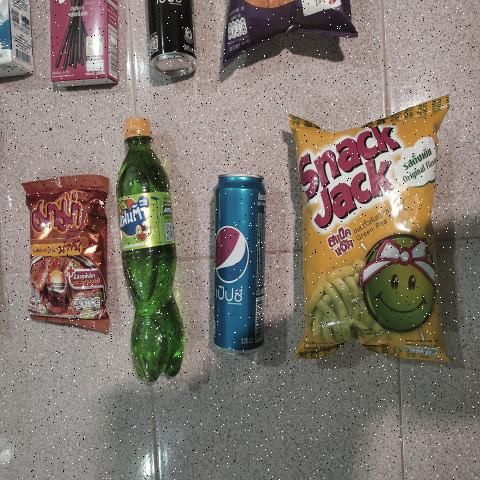fanta_green: (113, 118, 187, 386)
mama: (24, 176, 109, 327)
pepsi_blue: (208, 168, 272, 355)
snack_jack: (302, 127, 442, 358)
